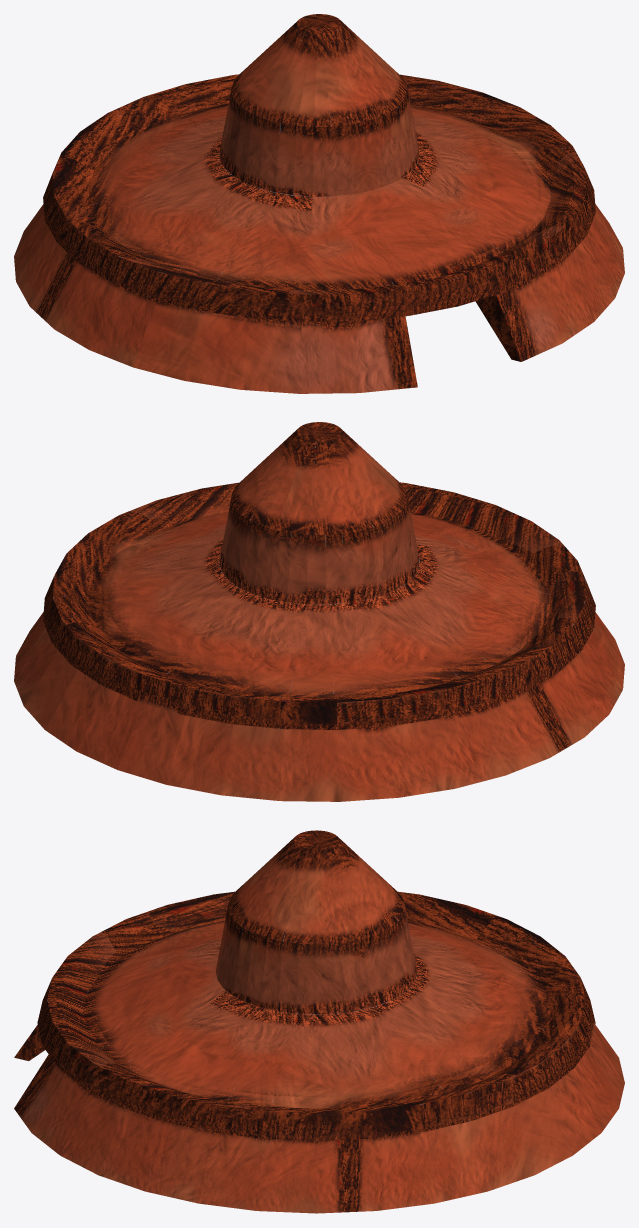
File: tend_1.fbx
3 views of the same model, one above another, from view 1: azimuth 30°, elevation 25°; view 2: azimuth 150°, elevation 25°; view 3: azimuth 270°, elevation 25° (orthographic).
Visible parts, largest first — view 1: Tent; view 2: Tent; view 3: Tent.
Part boxes in pixels (box(x1,y1,x2,y2)): Tent: box(14, 14, 624, 393); Tent: box(14, 422, 624, 801); Tent: box(14, 830, 624, 1213).
Bounding box in the file's own units: 2722 × 1287 × 2696.
